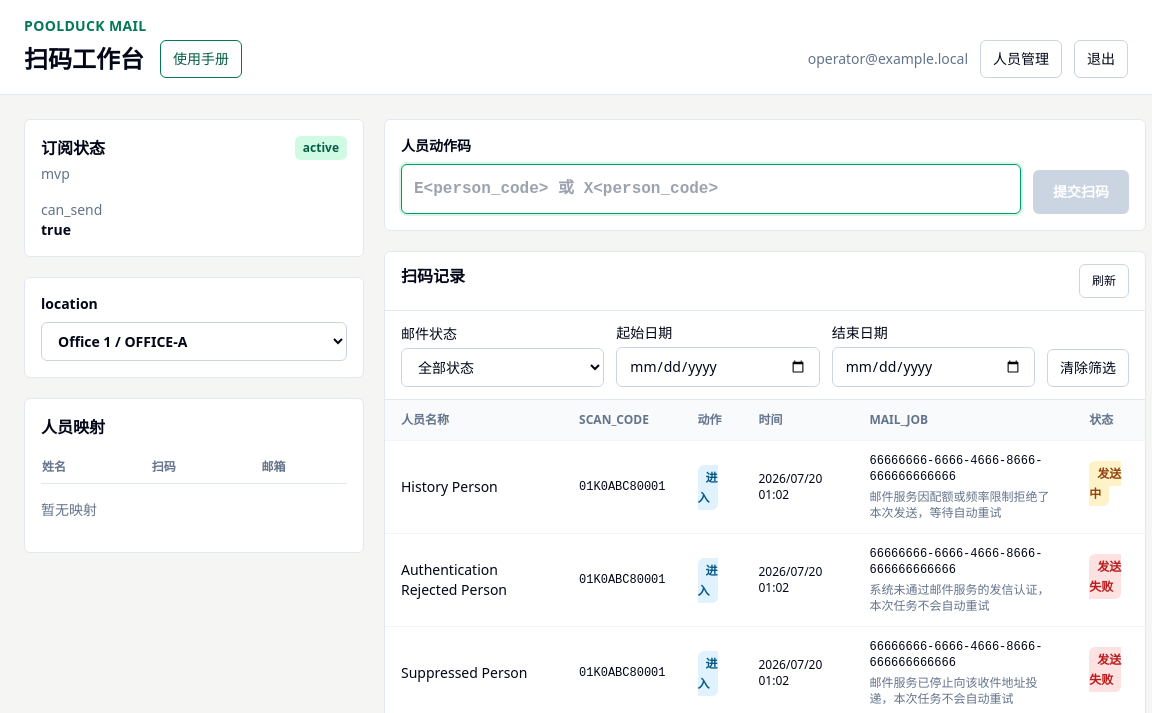
Scenario: history workspace › shows safe rejection reasons and clears the retry message when the job is sent
Expected: the text "邮件服务因配额或频率限制拒绝了本次发送，等待自动重试" is shown, left=870, top=489, right=1057, bottom=521
Expected: the text with test id "mail-status" reads "发送中", left=1089, top=465, right=1121, bottom=502
Step 1. Click the button with test id "history-refresh" → (1104, 281), box left=1079, top=264, right=1129, bottom=298
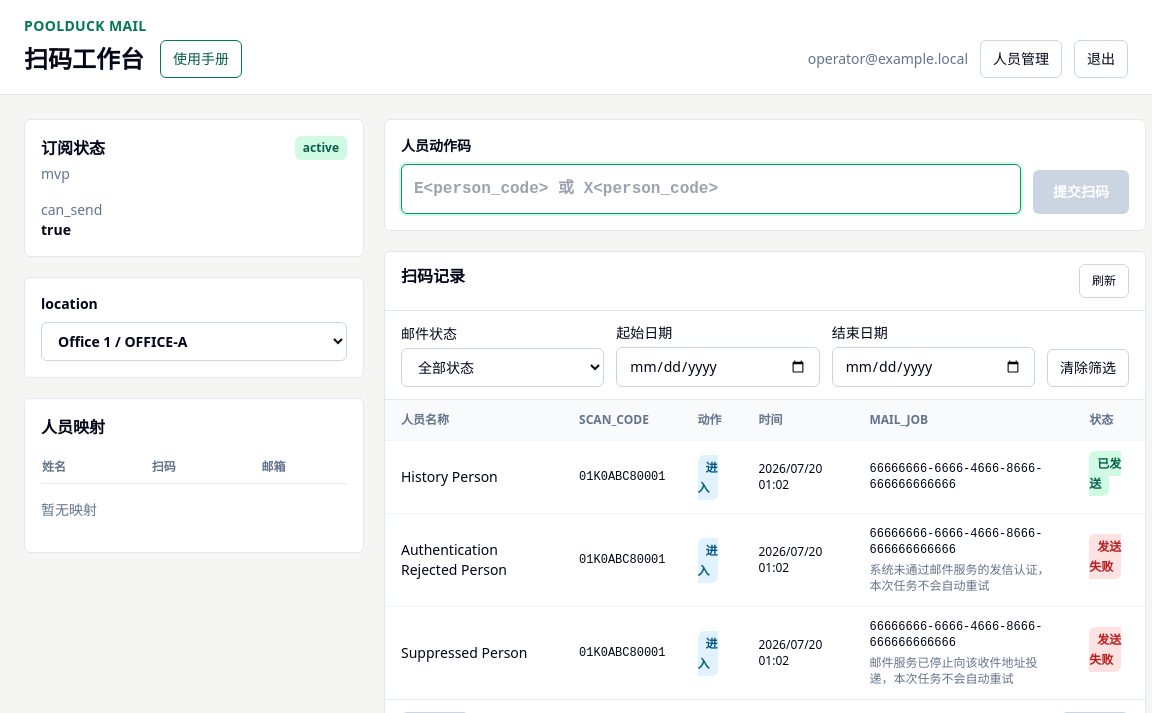
Expected: the text "系统未通过邮件服务的发信认证，本次任务不会自动重试" is shown, left=870, top=562, right=1057, bottom=594
Result: the text "已发送" is shown at left=1089, top=451, right=1121, bottom=496
Result: the text "邮件服务因配额或频率限制拒绝了本次发送，等待自动重试" is gone
